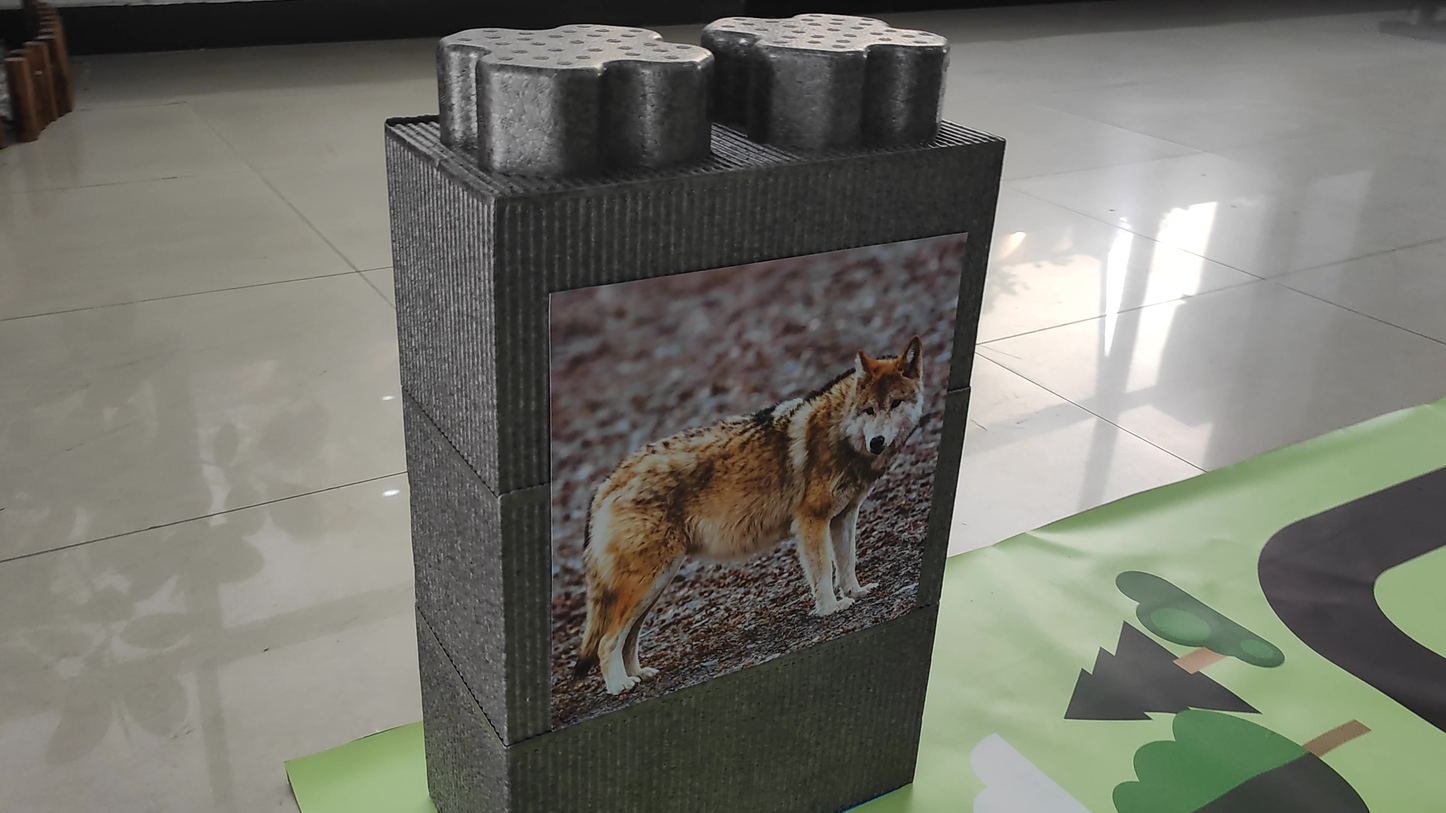wolf: (581, 303, 927, 687)
